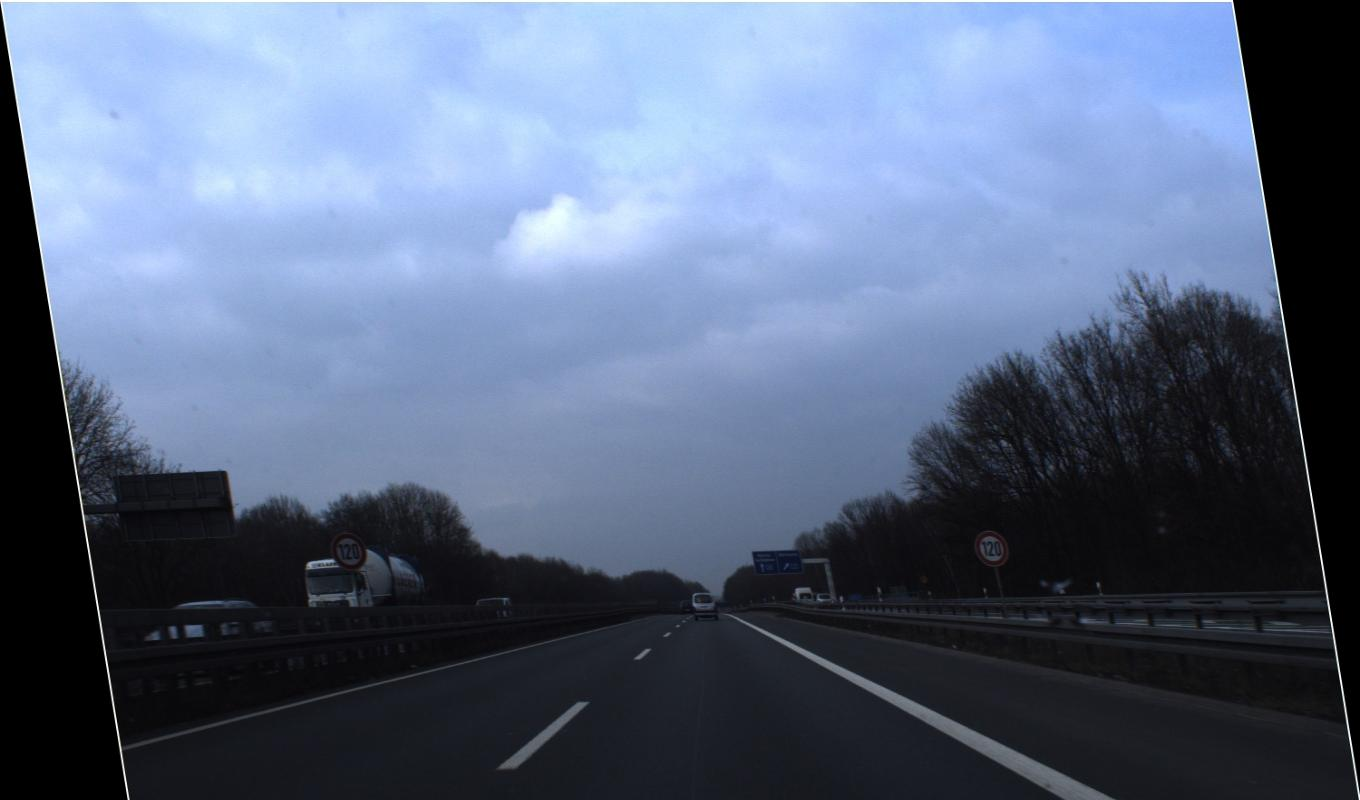speed limit 120: (326, 529, 1011, 574)
